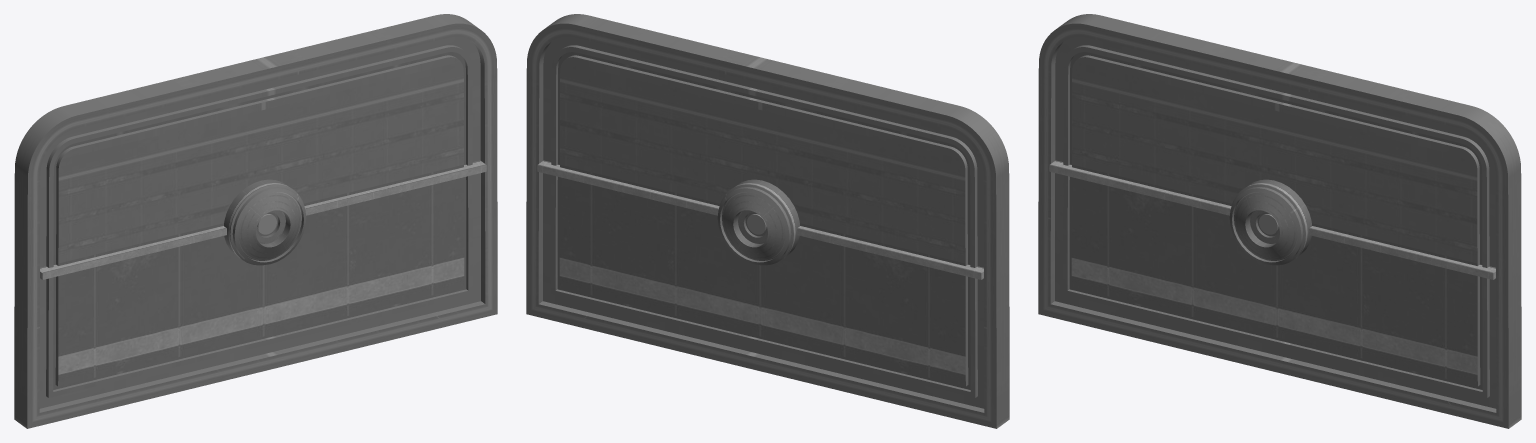
The model's file is SM_door_01.glb.
3 views of the same model, side by side, from view 1: azimuth 30°, elevation 25°; view 2: azimuth 150°, elevation 25°; view 3: azimuth 330°, elevation 25° (orthographic).
Visible parts, largest first — view 1: SM_door_01; view 2: SM_door_01; view 3: SM_door_01.
Part boxes in pixels (<box>): SM_door_01: <box>14,14,497,428</box>; SM_door_01: <box>526,14,1009,428</box>; SM_door_01: <box>1038,14,1521,428</box>.
Size of the model in its own units: 5.64 by 3.45 by 0.7174.
Materials: 1 (1 with a texture image).
